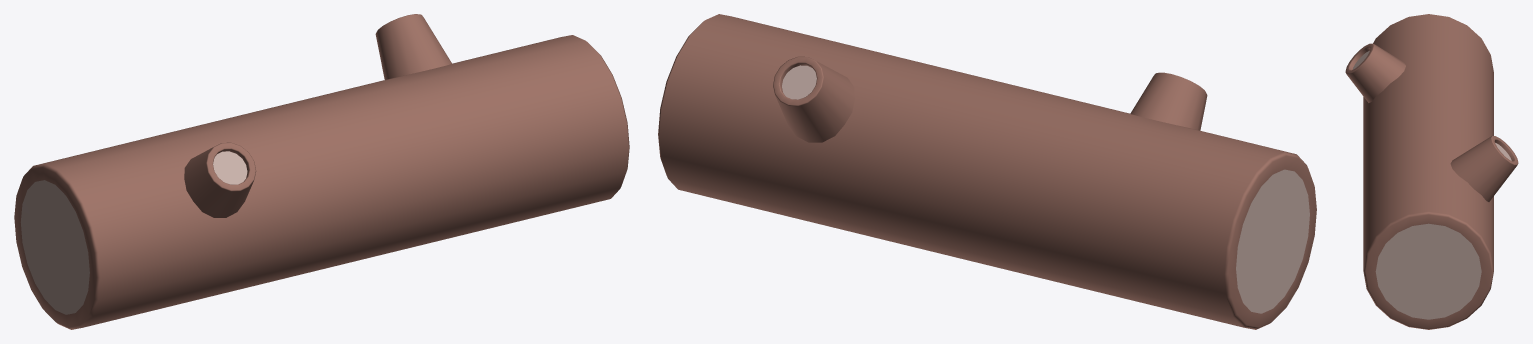
Rendered from City_17_Log_1.glb.
The picture shows the model from 3 angles, left to right: view 1: azimuth 30°, elevation 25°; view 2: azimuth 150°, elevation 25°; view 3: azimuth 270°, elevation 25°; orthographic projection. The views are drawn at different scales.
Parts seen in each view (by area): view 1: City_17_Log_1; view 2: City_17_Log_1; view 3: City_17_Log_1.
Boxes of the visible parts, bbox=[...] form: City_17_Log_1: bbox=[14, 14, 629, 329]; City_17_Log_1: bbox=[658, 14, 1316, 329]; City_17_Log_1: bbox=[1345, 14, 1518, 329].
Size of the model in its own units: 0.7952 by 0.2614 by 0.2914.
Materials: 1 (1 with a texture image).
